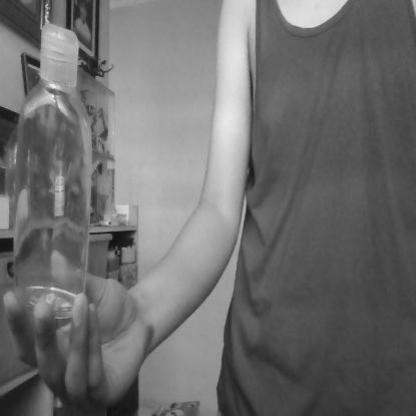Plastic Bottle: (7, 20, 91, 327)
